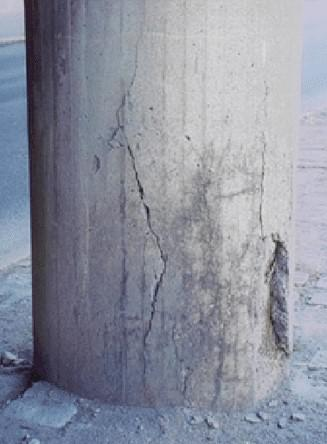spalling: (256, 234, 290, 359)
